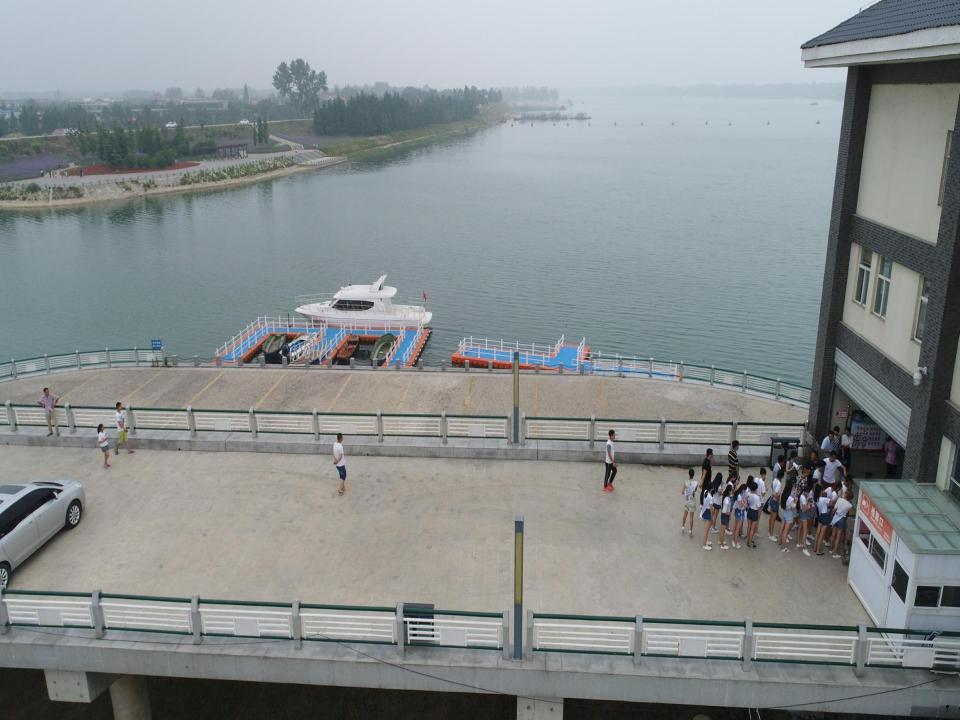car: (0, 480, 83, 595), (165, 121, 177, 129), (239, 118, 249, 126)
